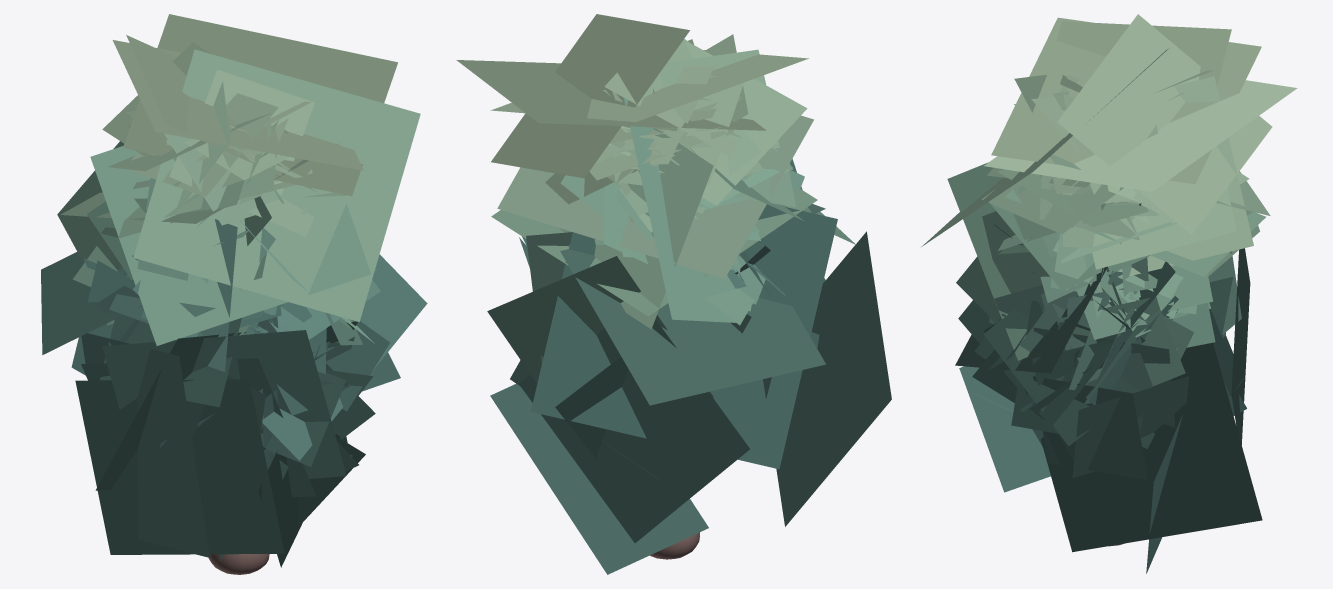
Rendered from yew_v0.glb.
3 renders of one model, left to right at view 1: azimuth 30°, elevation 25°; view 2: azimuth 150°, elevation 25°; view 3: azimuth 270°, elevation 25°, orthographic. The views are drawn at different scales.
Visible parts, largest first — view 1: far, near; view 2: far, near; view 3: far, near.
Part boxes in pixels (x1=…): far: x1=41, y1=14, x2=427, y2=557; near: x1=87, y1=42, x2=390, y2=574; far: x1=456, y1=14, x2=891, y2=574; near: x1=519, y1=34, x2=825, y2=559; far: x1=921, y1=14, x2=1297, y2=573; near: x1=956, y1=70, x2=1249, y2=546.
Bounding box in the file's own units: 8.66 × 12.54 × 8.62.
